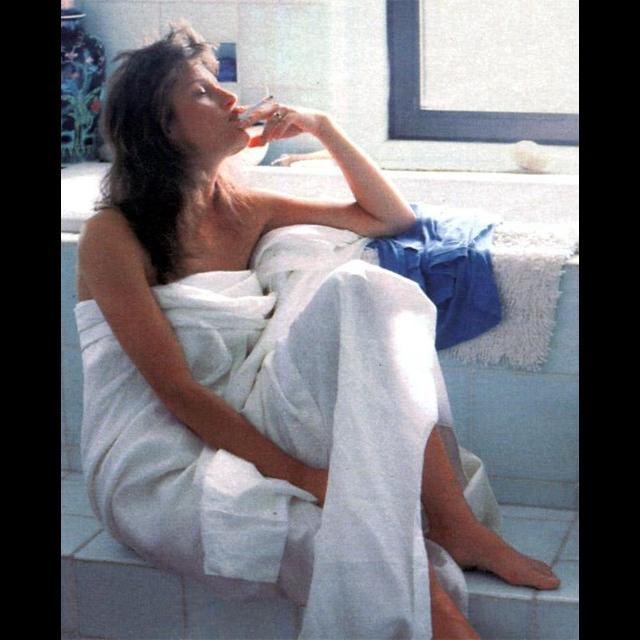rokok: (236, 92, 274, 120)
